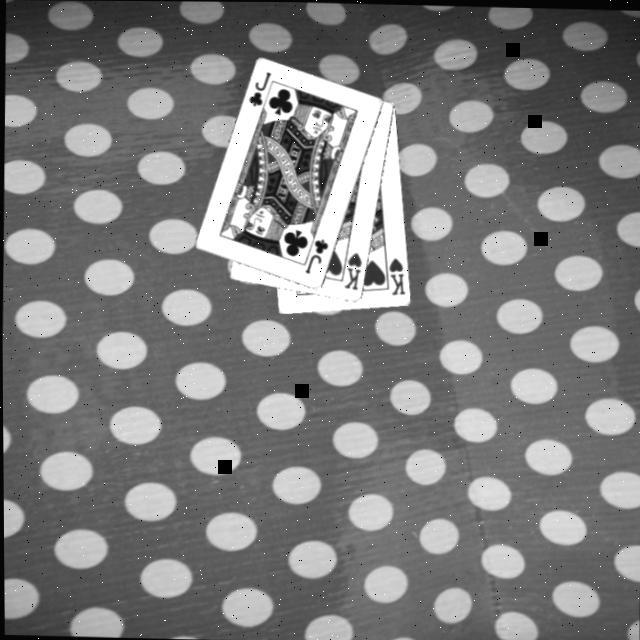JC: (247, 70, 276, 112), (303, 238, 332, 278)
KH: (342, 250, 366, 294), (387, 256, 410, 298)
